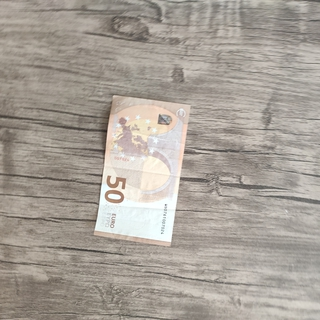50EUROBack: (92, 92, 190, 247)
